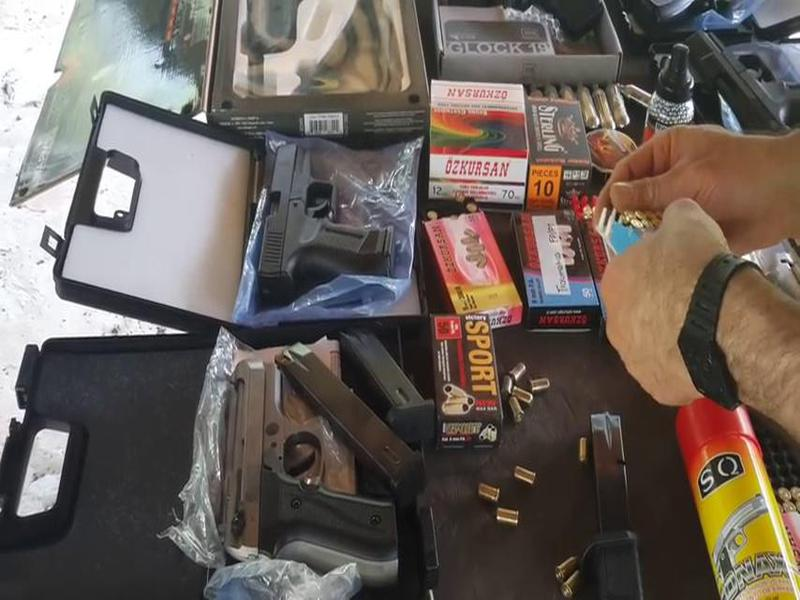Pistola: (164, 352, 415, 582), (237, 133, 396, 311)
